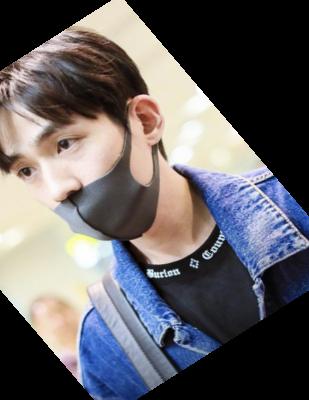mask_weared_incorrect: (3, 22, 178, 252)
